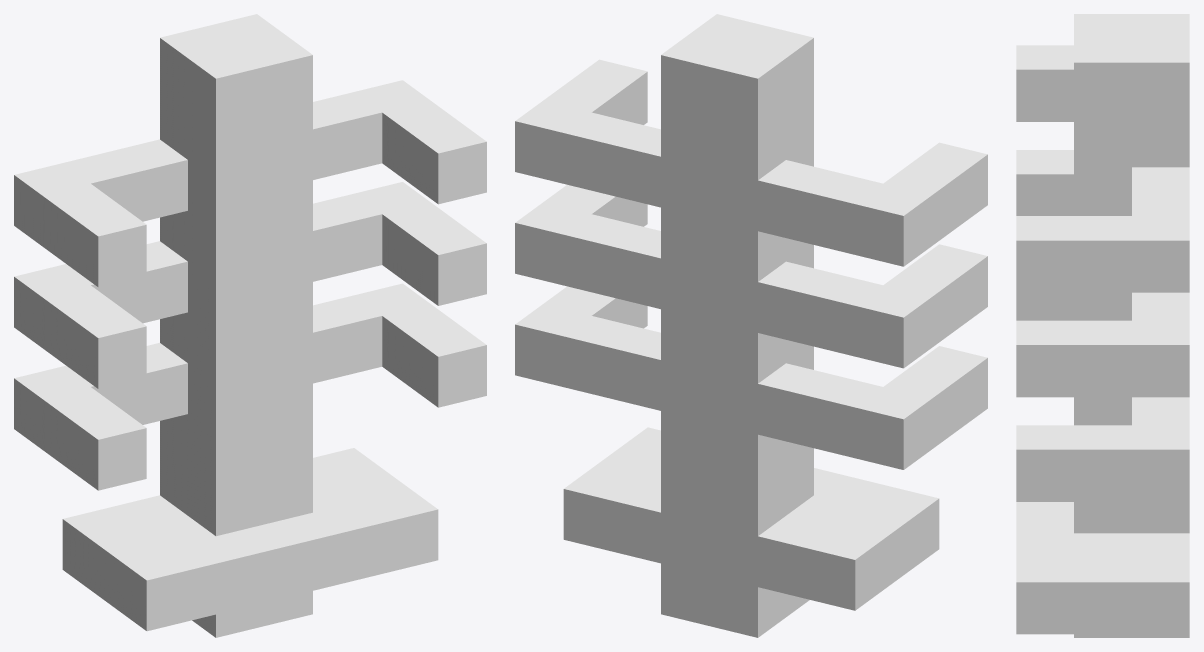
File: skeltBody.obj
The picture shows the model from 3 angles, left to right: view 1: azimuth 30°, elevation 25°; view 2: azimuth 150°, elevation 25°; view 3: azimuth 270°, elevation 25°; orthographic projection. The views are drawn at different scales.
Visible parts, largest first — view 1: spine, pelvis, rib base 1, rib base 3, rib base 2, rib curve 3a, rib curve 3b, rib curve 2b, rib curve 1b, rib curve 1a, rib curve 2a; view 2: spine, pelvis, rib base 1, rib base 3, rib base 2, rib curve 2b, rib curve 3b, rib curve 1b, rib curve 1a, rib curve 3a, rib curve 2a; view 3: spine, pelvis, rib curve 2a, rib curve 1a, rib curve 3a, rib base 1, rib base 2, rib base 3, rib curve 1b, rib curve 2b, rib curve 3b.
Boxes of the visible parts, x1,y1,x2,y2 form: spine: (160,14,312,637); pelvis: (62,448,438,631); rib base 1: (14,80,430,245); rib base 3: (14,283,430,449); rib base 2: (14,182,430,347); rib curve 3a: (382,304,486,407); rib curve 3b: (42,387,146,490); rib curve 2b: (42,285,146,388); rib curve 1b: (42,183,146,287); rib curve 1a: (382,100,486,204); rib curve 2a: (382,202,486,305); spine: (661,14,813,637); pelvis: (563,427,939,610); rib base 1: (515,100,931,266); rib base 3: (515,304,931,469); rib base 2: (515,202,931,368); rib curve 2b: (883,244,987,347); rib curve 3b: (883,346,987,449); rib curve 1b: (883,142,987,245); rib curve 1a: (543,59,647,124); rib curve 3a: (543,286,647,328); rib curve 2a: (543,184,647,226); spine: (1074,14,1189,637); pelvis: (1016,502,1189,634); rib curve 2a: (1016,320,1131,397); rib curve 1a: (1016,216,1131,292); rib curve 3a: (1016,425,1131,501); rib base 1: (1132,167,1189,292); rib base 2: (1132,292,1189,397); rib base 3: (1132,397,1189,501); rib curve 1b: (1016,45,1073,121); rib curve 2b: (1016,150,1073,215); rib curve 3b: (1016,292,1073,320).
Size of the model in its own units: 0.5 by 0.6875 by 0.1875.
